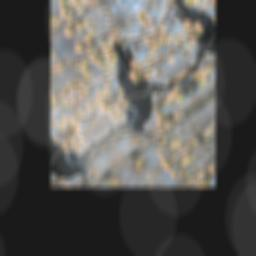Crow: (87, 29, 188, 145)
